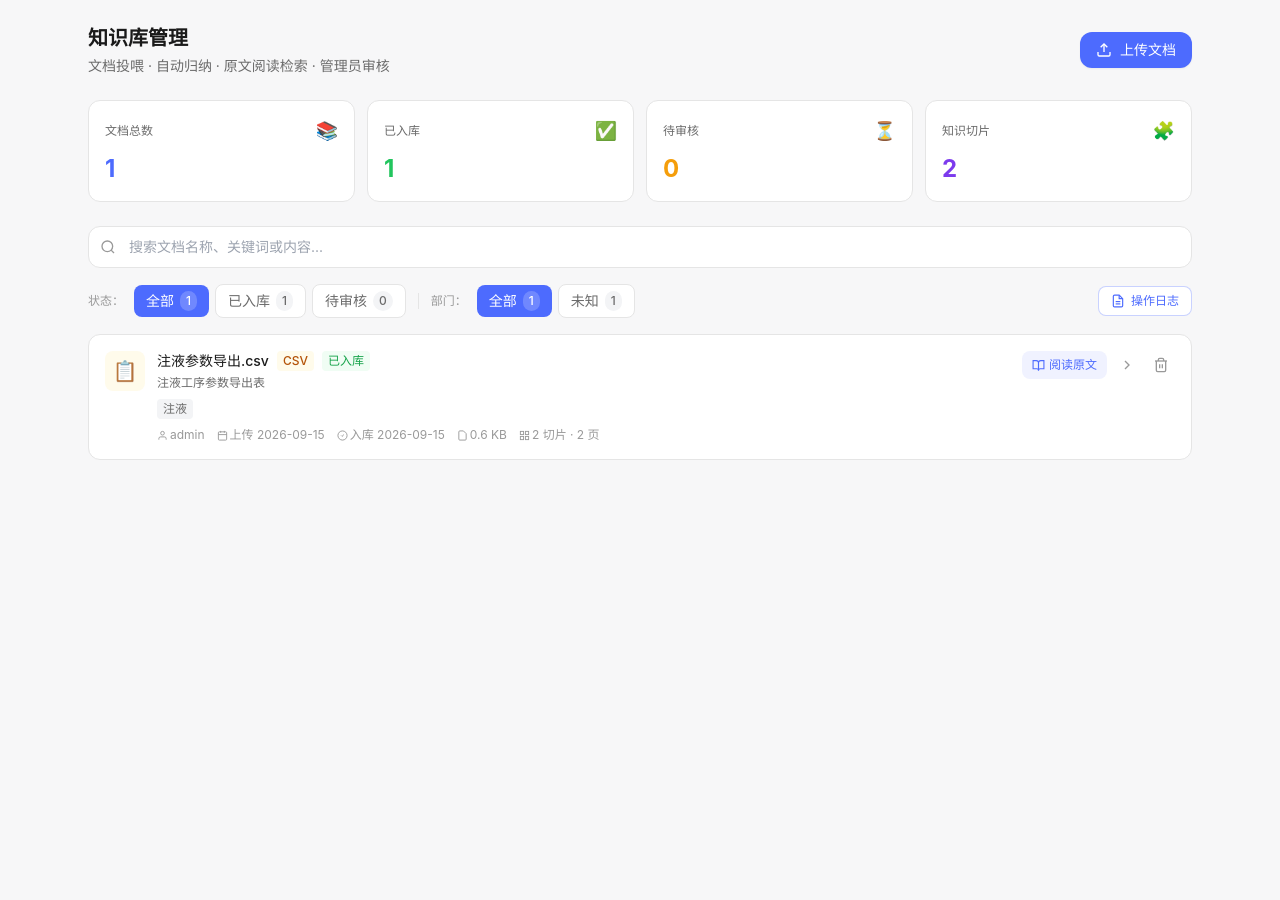
Scenario: KnowledgeBase › .csv 表格数据：列表显示 CSV 标签，点「阅读原文」逐段渲染行数据
The image size is (1280, 900).
Check: the text "CSV" is shown, box [277,351,314,371]
Check: the text "注液参数导出.csv" is shown, box [157,351,269,371]
Step 1. Click the button "阅读原文" → (1064, 365), box [1022,351,1107,379]
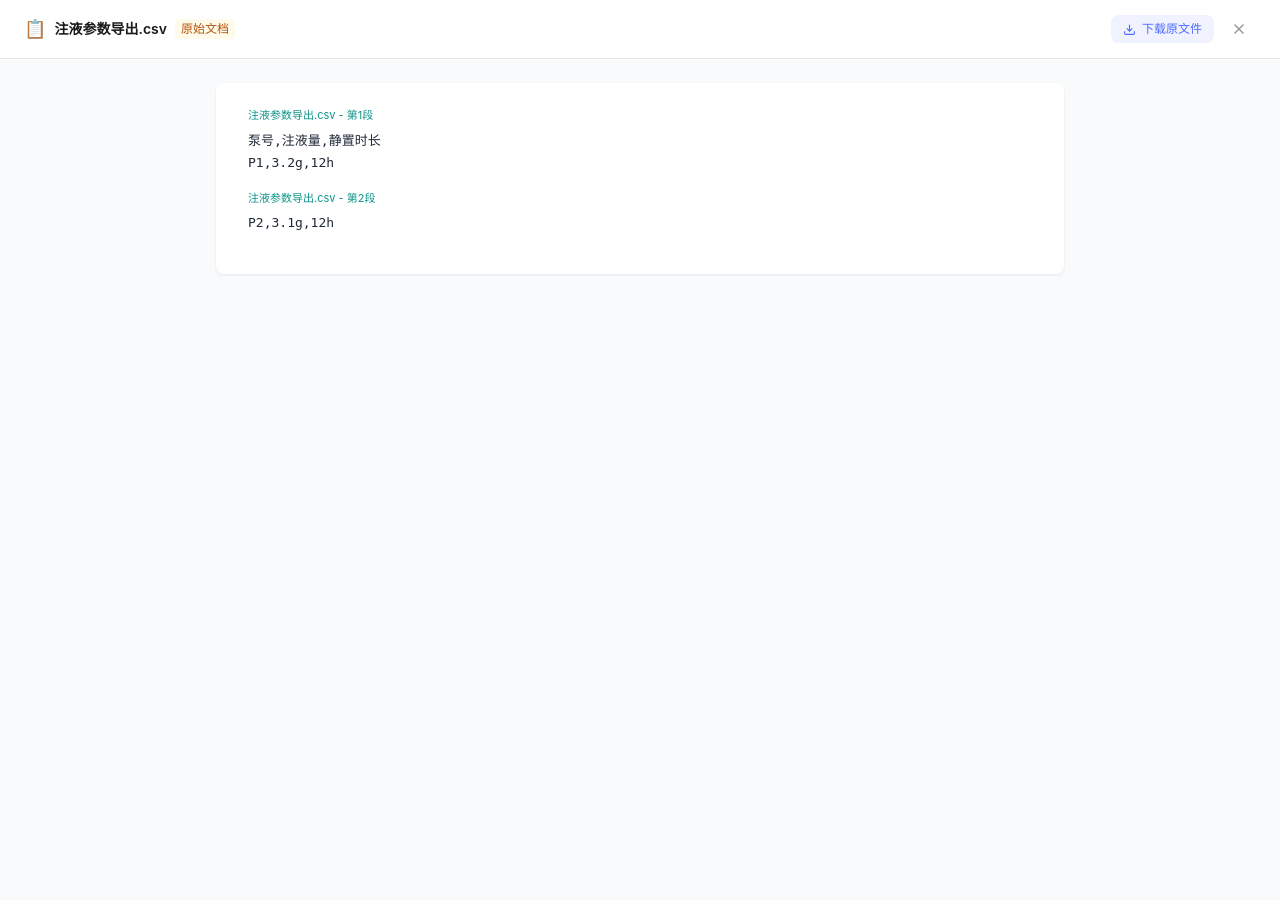
Check: the text "泵号,注液量,静置时长" is shown, box [248,133,381,170]
Check: the text "注液参数导出.csv - 第2段" is shown, box [248,191,375,205]
